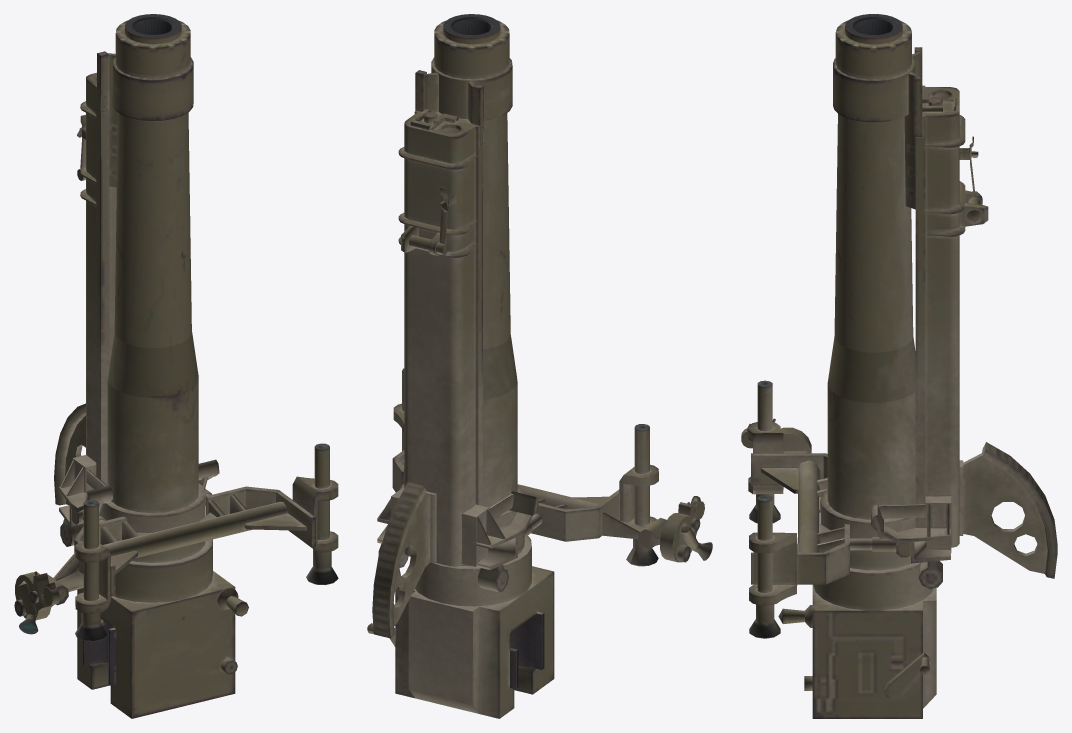
Rendered from Gun_01.glb.
3 views of the same model, side by side, from view 1: azimuth 30°, elevation 25°; view 2: azimuth 150°, elevation 25°; view 3: azimuth 270°, elevation 25° (orthographic).
Parts seen in each view (by area): view 1: set_0_group_0; view 2: set_0_group_0; view 3: set_0_group_0.
Part boxes in pixels (box(x1,y1,x2,y2)): set_0_group_0: box(14, 14, 338, 718); set_0_group_0: box(367, 14, 712, 718); set_0_group_0: box(741, 14, 1057, 718).
Bounding box in the file's own units: 0.967 × 1.93 × 0.8285.
Materials: 1 (1 with a texture image).
